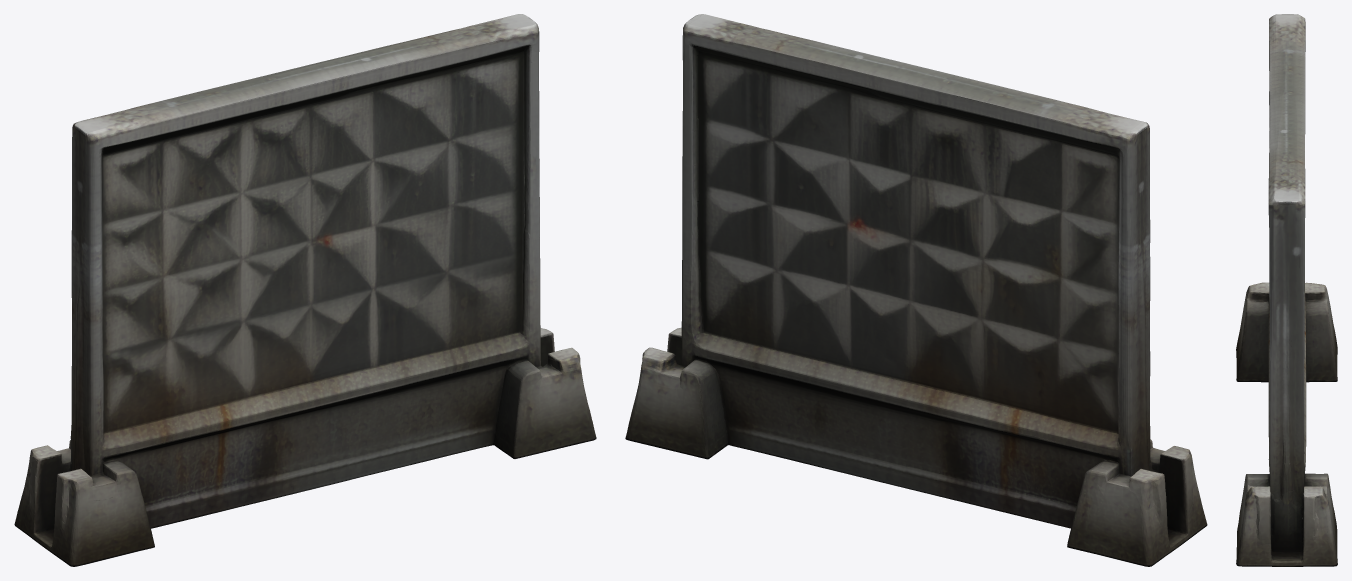
Rendered from 2_Soviet_era_concrete.fbx.
The picture shows the model from 3 angles, left to right: view 1: azimuth 30°, elevation 25°; view 2: azimuth 150°, elevation 25°; view 3: azimuth 270°, elevation 25°; orthographic projection. The views are drawn at different scales.
Parts seen in each view (by area): view 1: world; view 2: world; view 3: world.
Boxes of the visible parts, x1=… form: world: x1=14, y1=14, x2=596, y2=566; world: x1=625, y1=14, x2=1207, y2=566; world: x1=1236, y1=14, x2=1337, y2=566.
Bounding box in the file's own units: 100 × 74.55 × 19.6.
